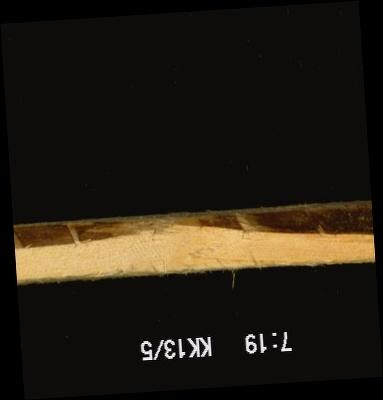wave: (13, 208, 371, 244)
